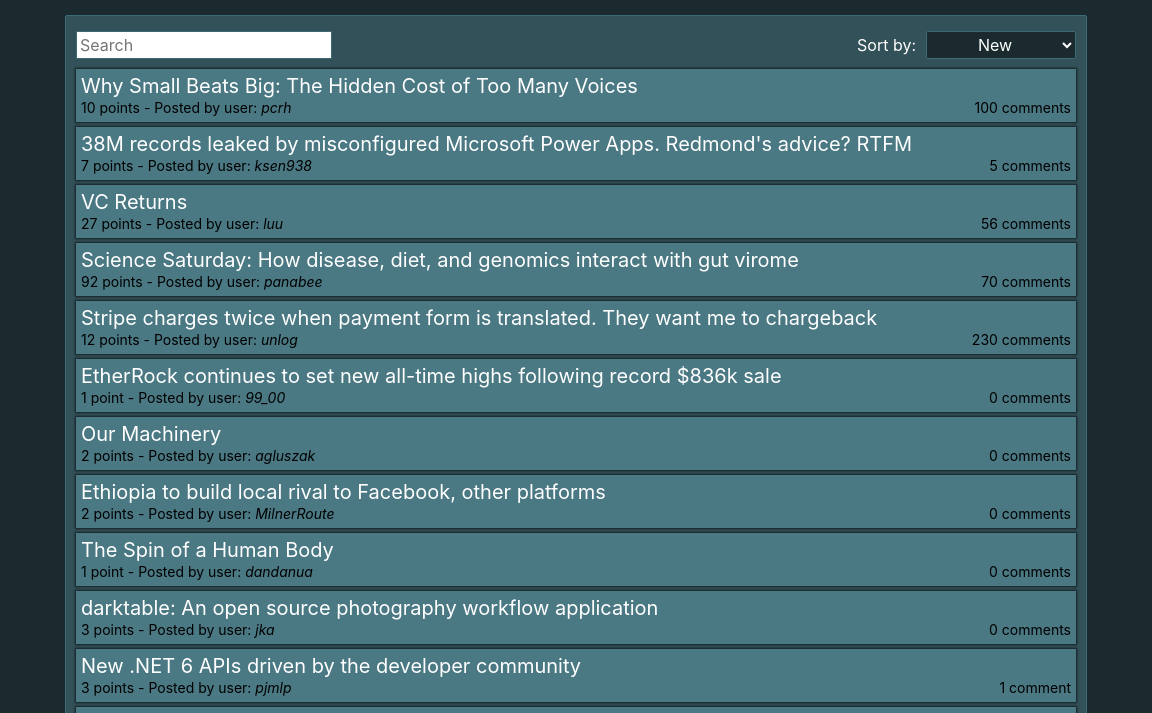
Frontpage › typing in searchbox filters storyList
Type "scientists" into the field at (204, 45), box [76,31,332,59]
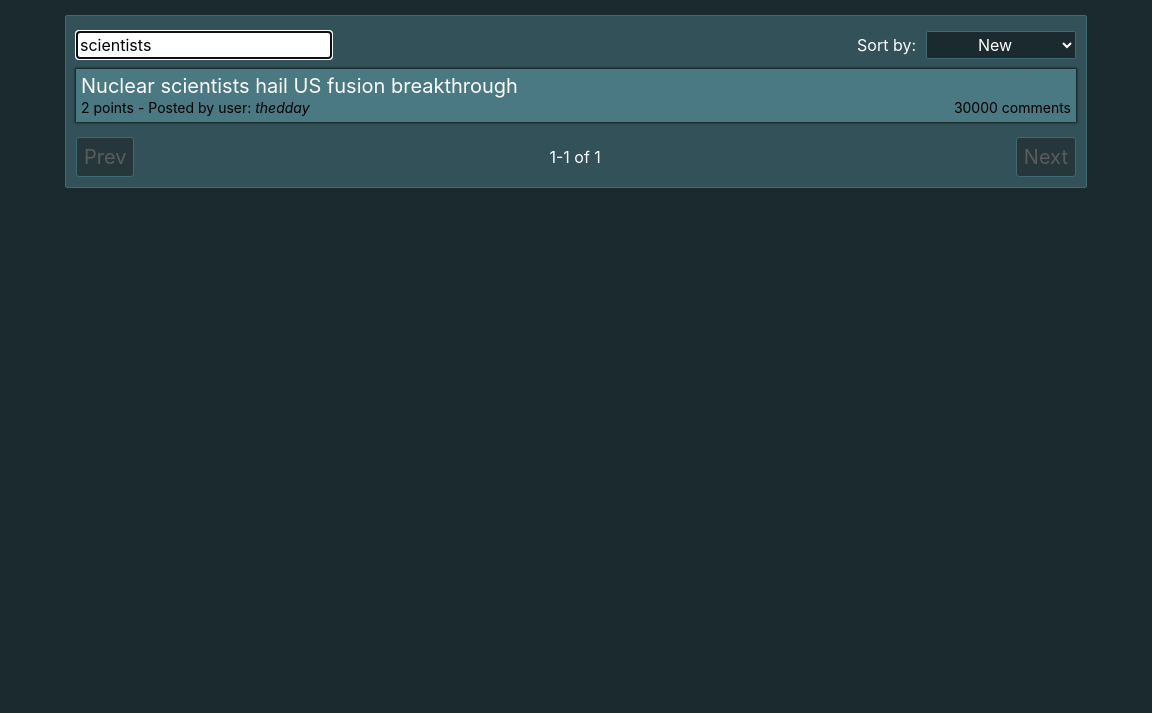
Now the number of links is 1, box [81,74,518,98]
Clear the field at (204, 45), box [76,31,332,59]
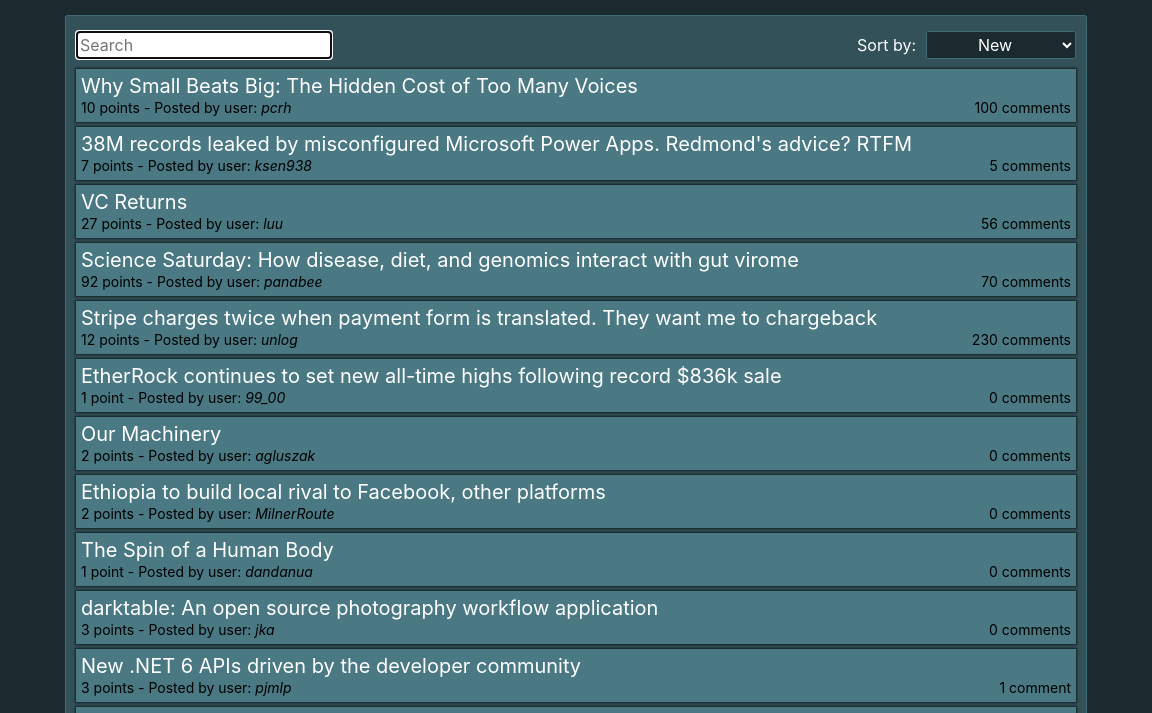
Now the number of links is 12
Type "how" into the field at (204, 45), box [76,31,332,59]
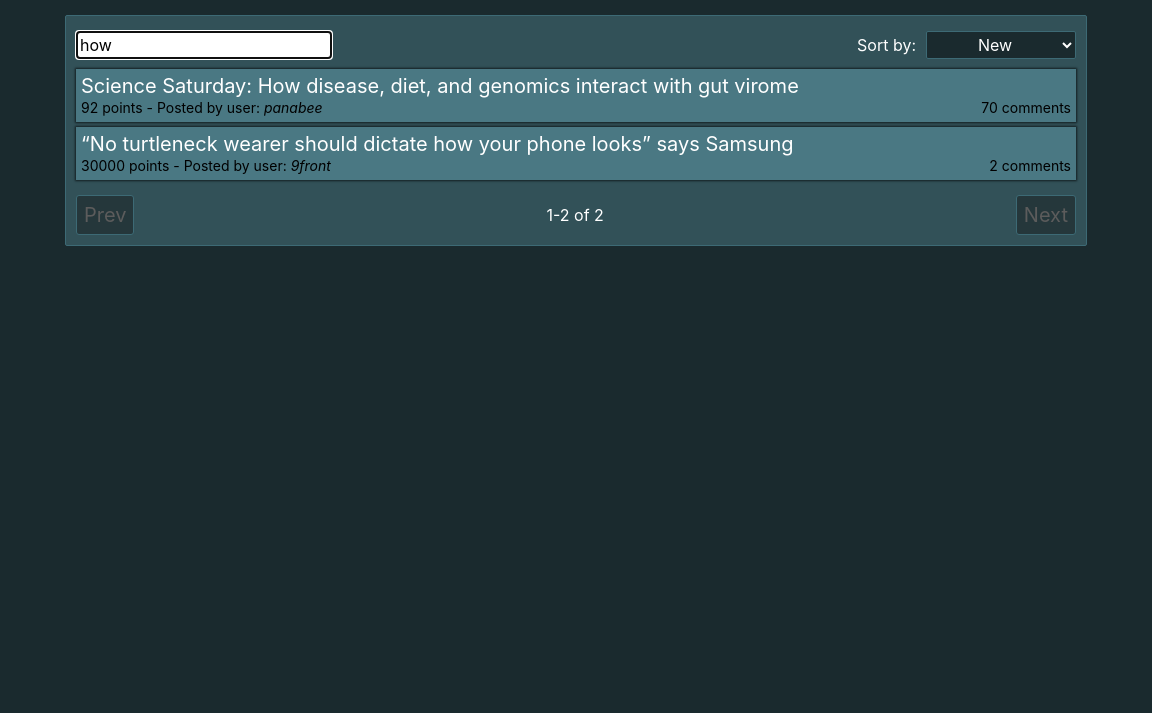
Now the number of links is 2, box [81,74,799,98]; [81,132,794,156]
